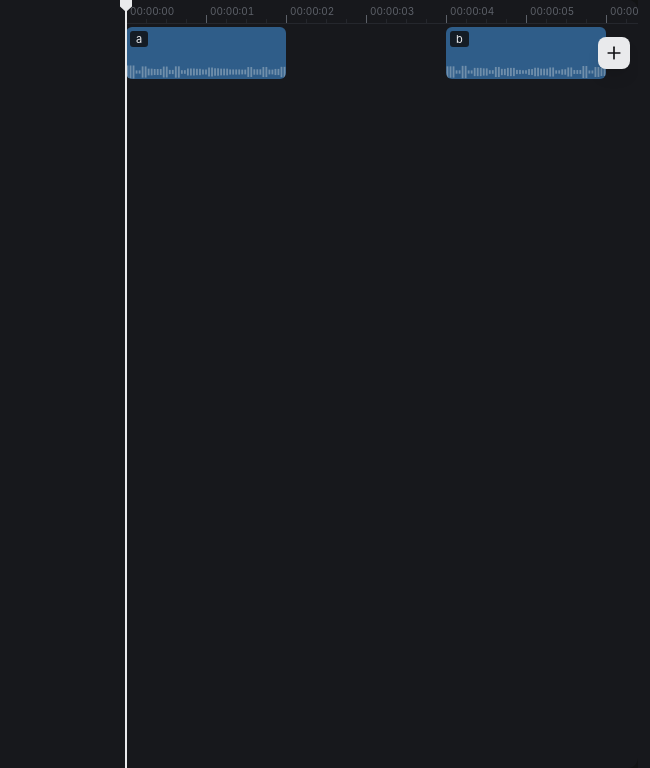
it: useTouchTimeline › opens the clip context menu after a 500 ms long press
The width and height of the screenshot is (650, 768).
Press the mouse on the option "b" at (526, 53), box x1=446 y1=27 x2=606 y2=79
Wait 500 ms
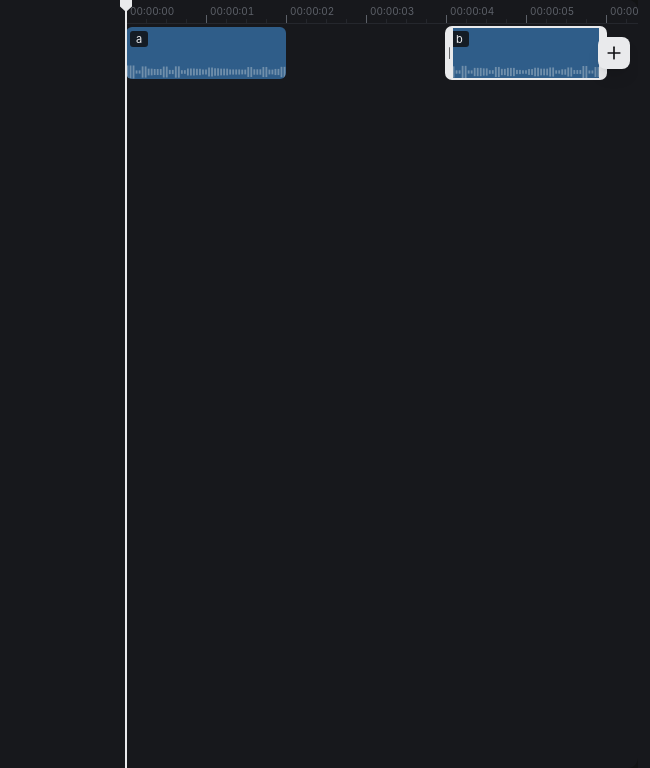
Right-click the option "b".
right_click(526, 53)  # box x1=446 y1=27 x2=606 y2=79
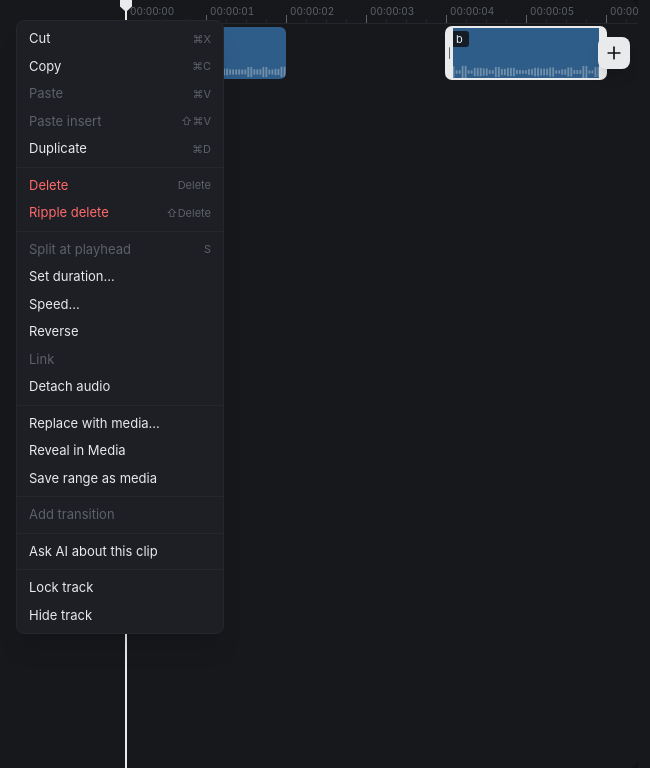
Now the menu named "Clip actions" is shown, box x1=16 y1=20 x2=224 y2=634
Now the menu item "Split at playhead S" is shown, box x1=29 y1=240 x2=211 y2=256
